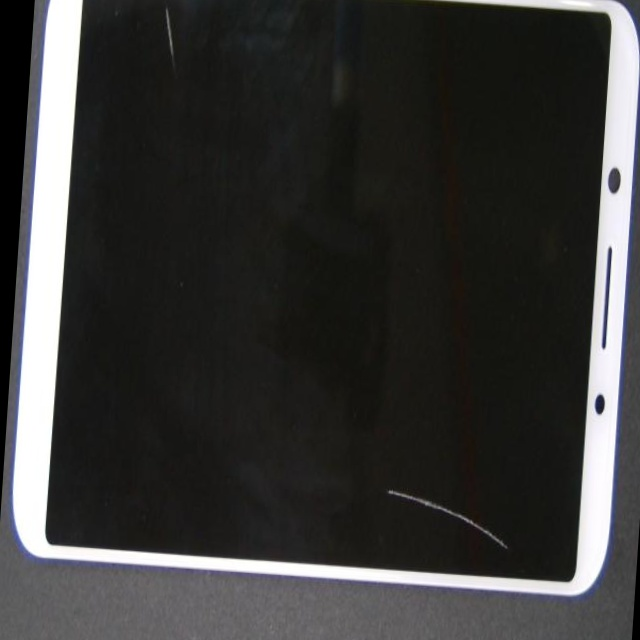scratch: (337, 279, 640, 640), (122, 0, 253, 72)
